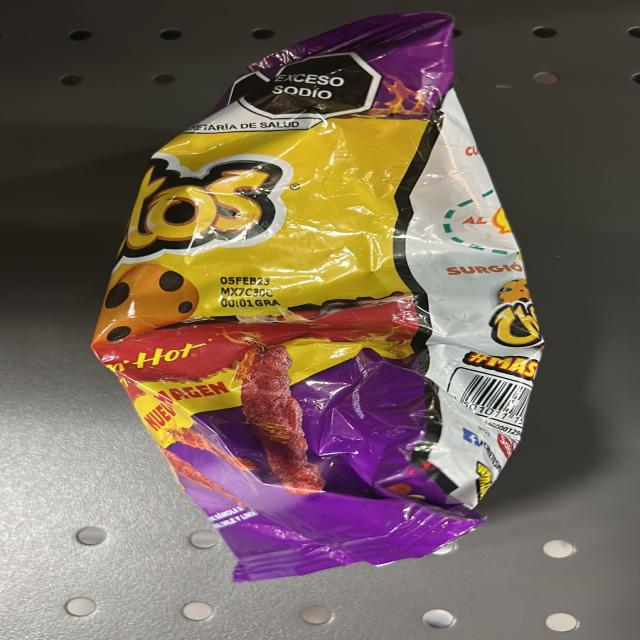cheetosFlaminHot: (119, 23, 539, 574)
